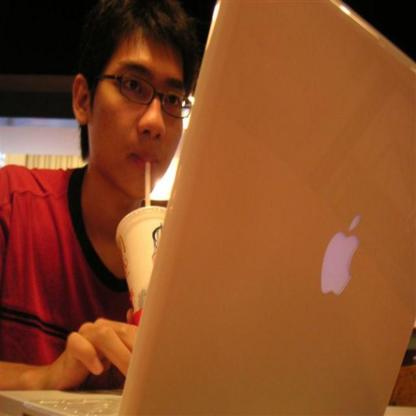board: (0, 0, 415, 415), (116, 208, 166, 318)
